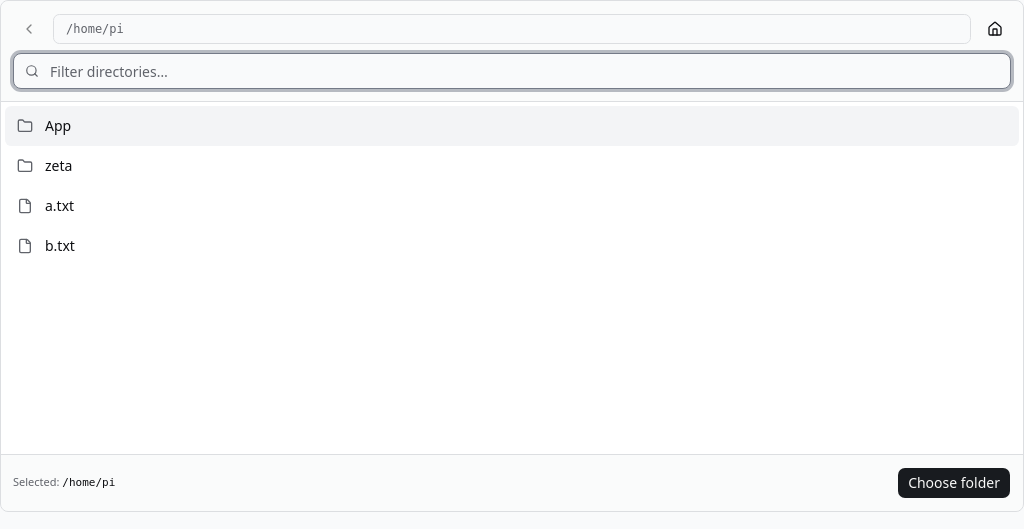
Test: FileBrowser › filters entries case-insensitively and reports an empty result
Check: the text "App" is shown, box [45, 116, 71, 136]
Type "APP" into the field labelled "Filter directories". click: (512, 71)
box: [13, 53, 1011, 89]
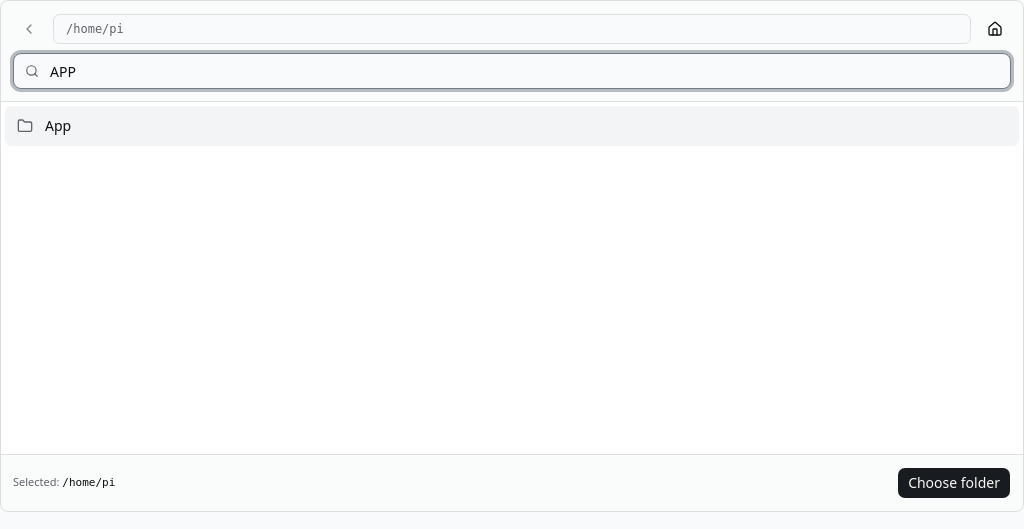
Check: the option reads "App", box [5, 106, 1019, 146]
Check: the number of options is 1, box [5, 106, 1019, 146]
Replace the text in the field named "Filter directories" with "zzz". click: (512, 71)
box: [13, 53, 1011, 89]
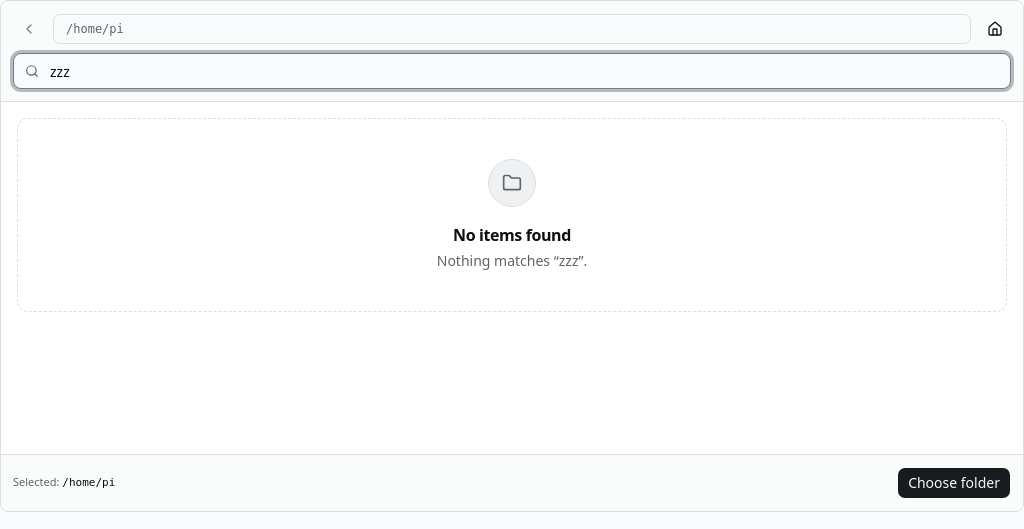
Check: the heading "No items found" is shown, box [453, 223, 571, 247]
